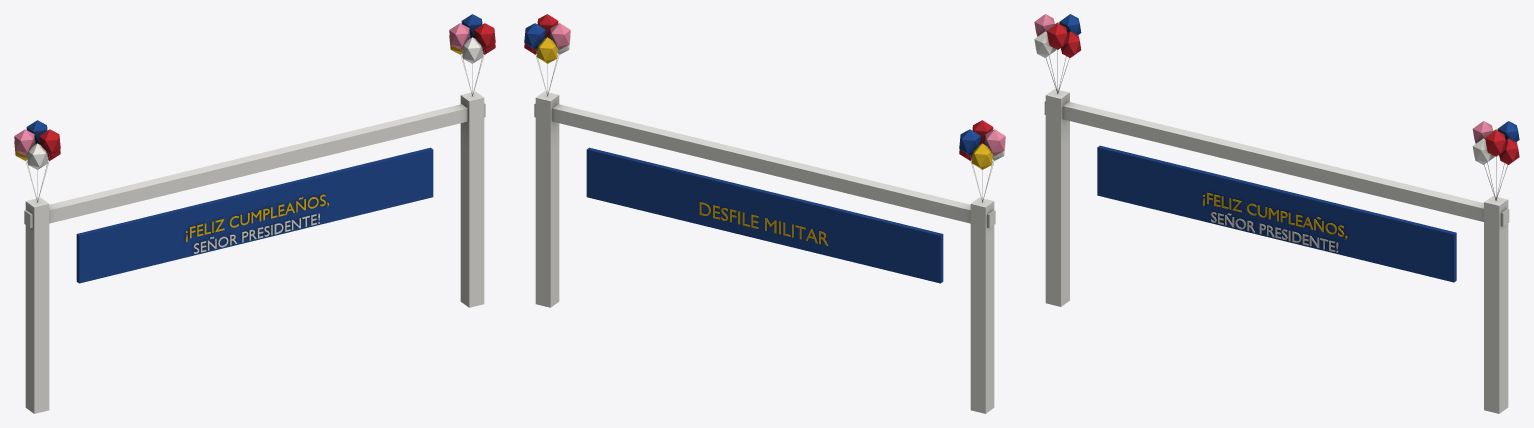
File: arco_desfile.glb
3 renders of one model, left to right at view 1: azimuth 30°, elevation 25°; view 2: azimuth 150°, elevation 25°; view 3: azimuth 330°, elevation 25°, orthographic.
Visible parts, largest first — view 1: arco_desfile; view 2: arco_desfile; view 3: arco_desfile.
Part boxes in pixels (x1=…): arco_desfile: x1=14, y1=14, x2=495, y2=413; arco_desfile: x1=524, y1=14, x2=1005, y2=413; arco_desfile: x1=1034, y1=14, x2=1519, y2=413.
Size of the model in its own units: 18.93 by 10.68 by 1.56.
1 material, 1 textured.
